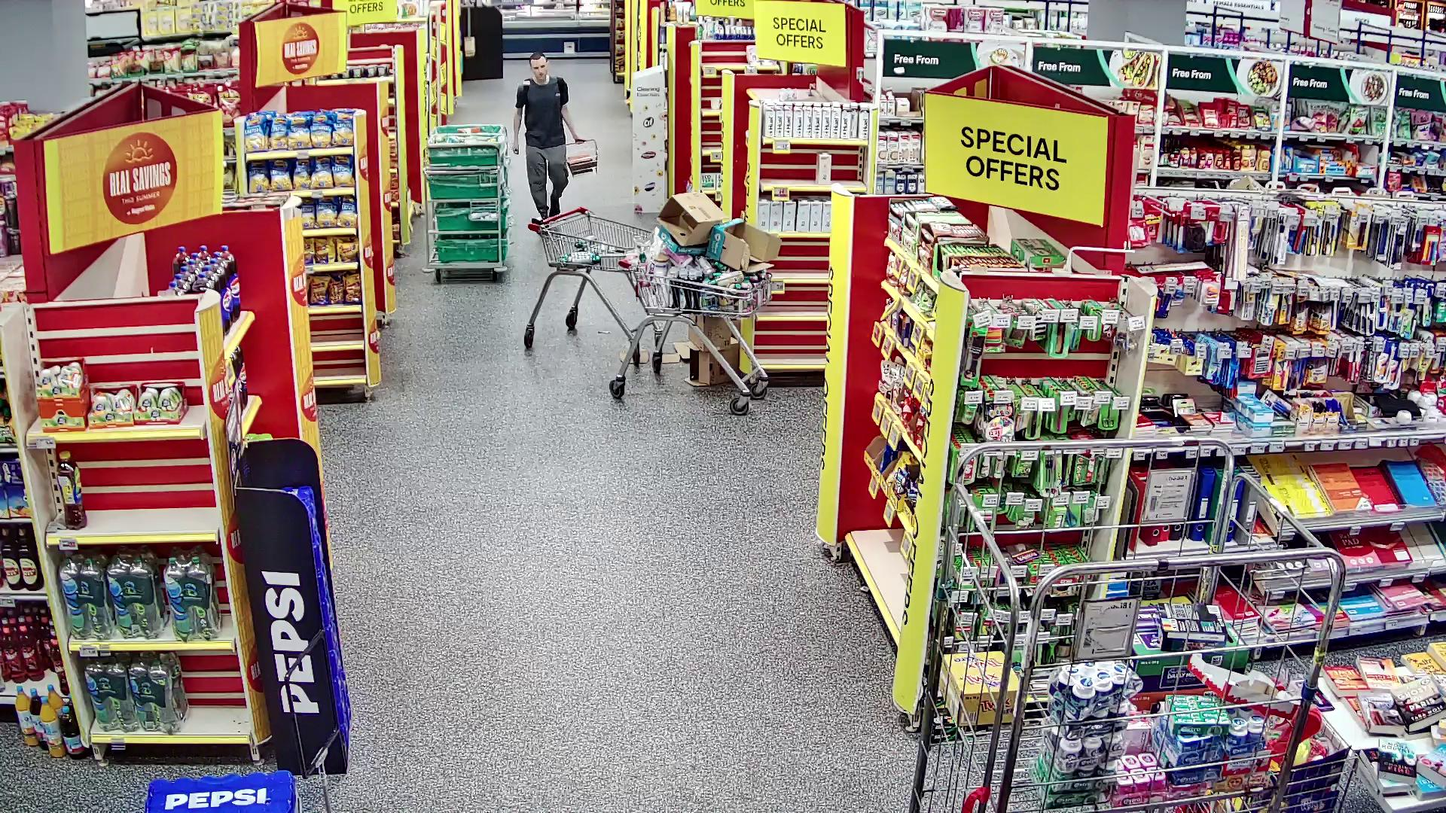filled-basket: (564, 138, 598, 176)
person: (512, 52, 584, 219)
person-with-filled-basket-trolly: (512, 50, 599, 220)
